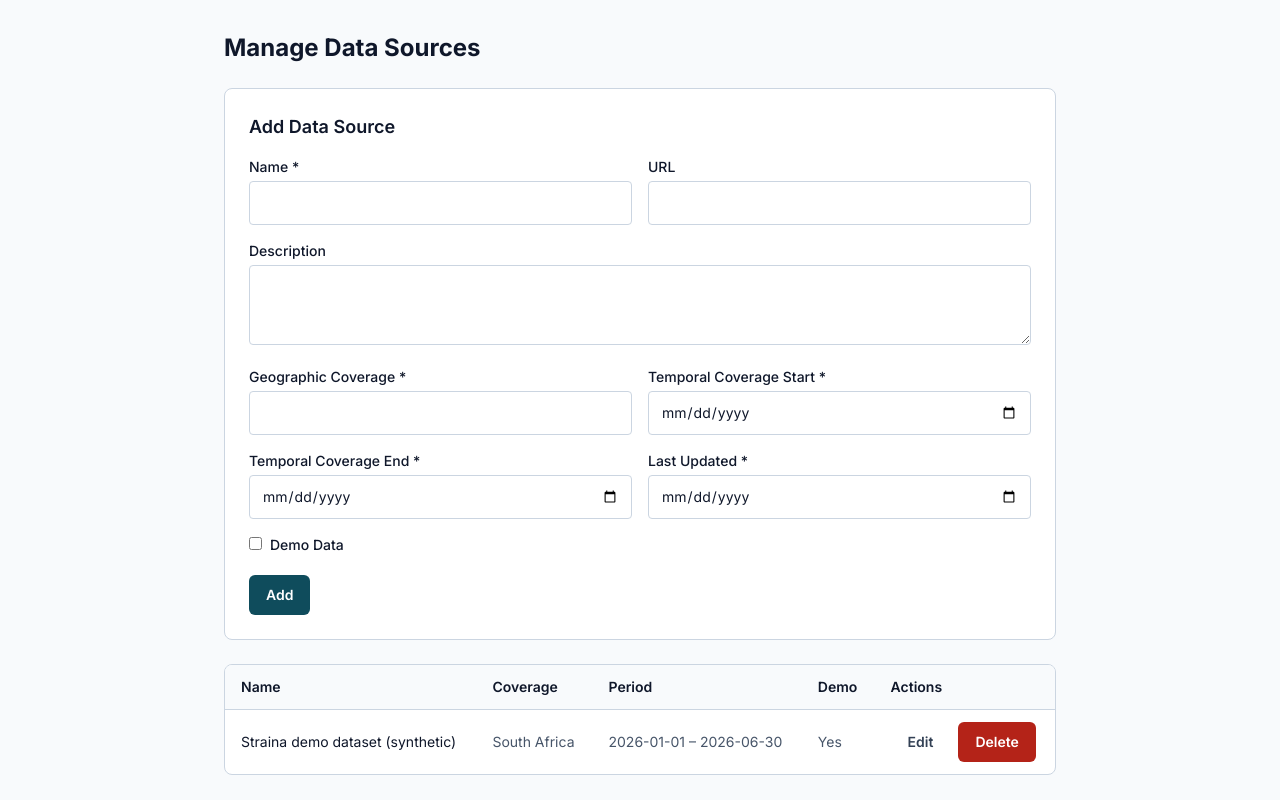
Test case: S9 Manage Data Sources (T-US12-1, T-US12-2, T-US12-3) › shows an error toast when the database rejects the insert (T-US12-3)
This screenshot has width=1280, height=800.
Check: the text "Straina demo dataset (synthetic)" is shown, box [225, 710, 476, 774]
Type "National surveillance" into the field below "Name *" at (440, 203), box [249, 181, 632, 225]
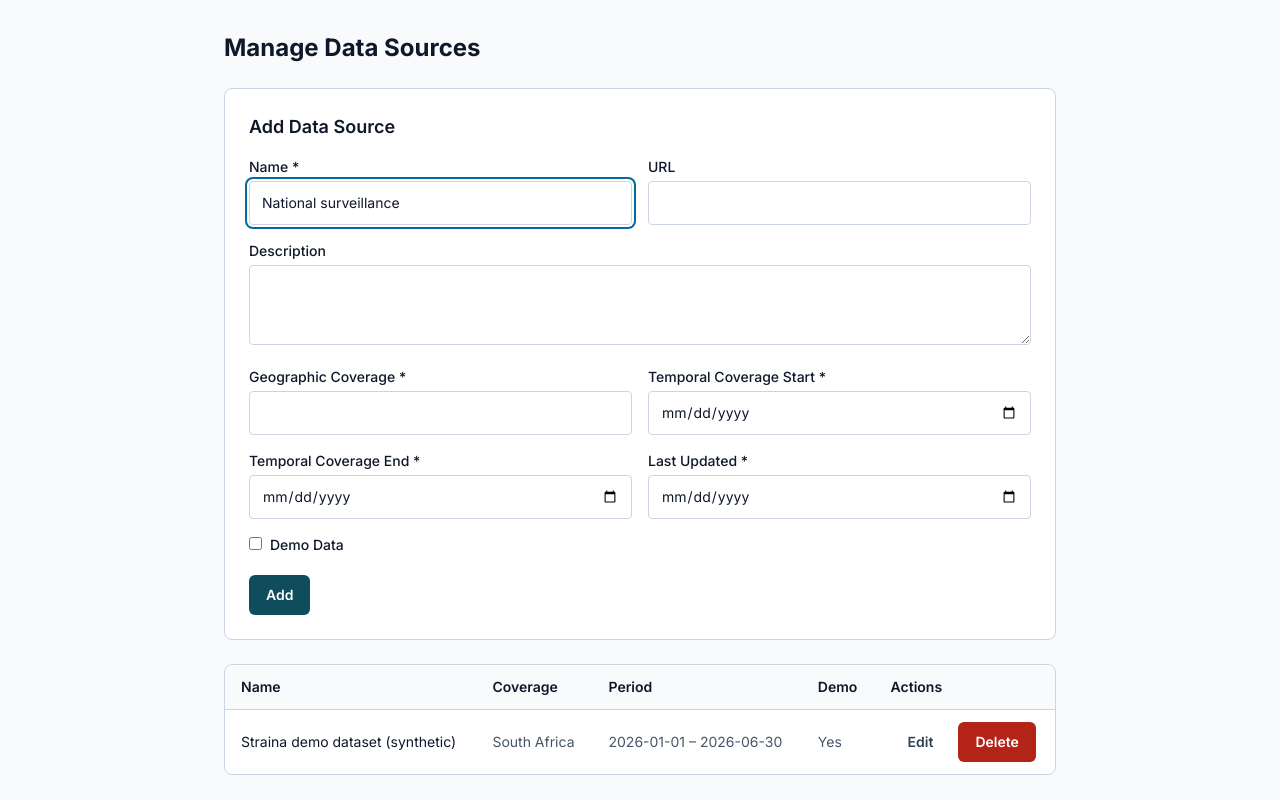
Type "South Africa" into the field below "Geographic Coverage *" at (440, 413), box [249, 391, 632, 435]
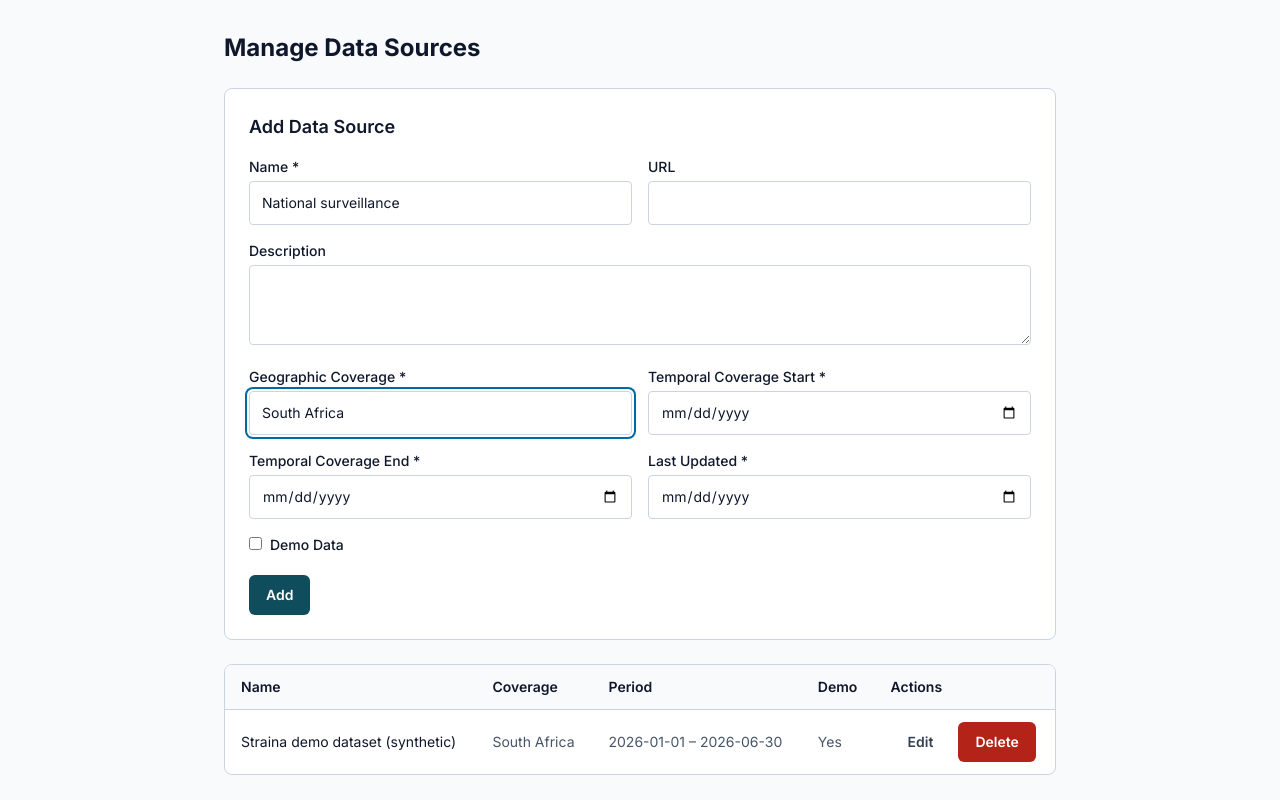
Type "2026-01-01" into the date field below "Temporal Coverage Start *" at (840, 413), box [648, 391, 1031, 435]
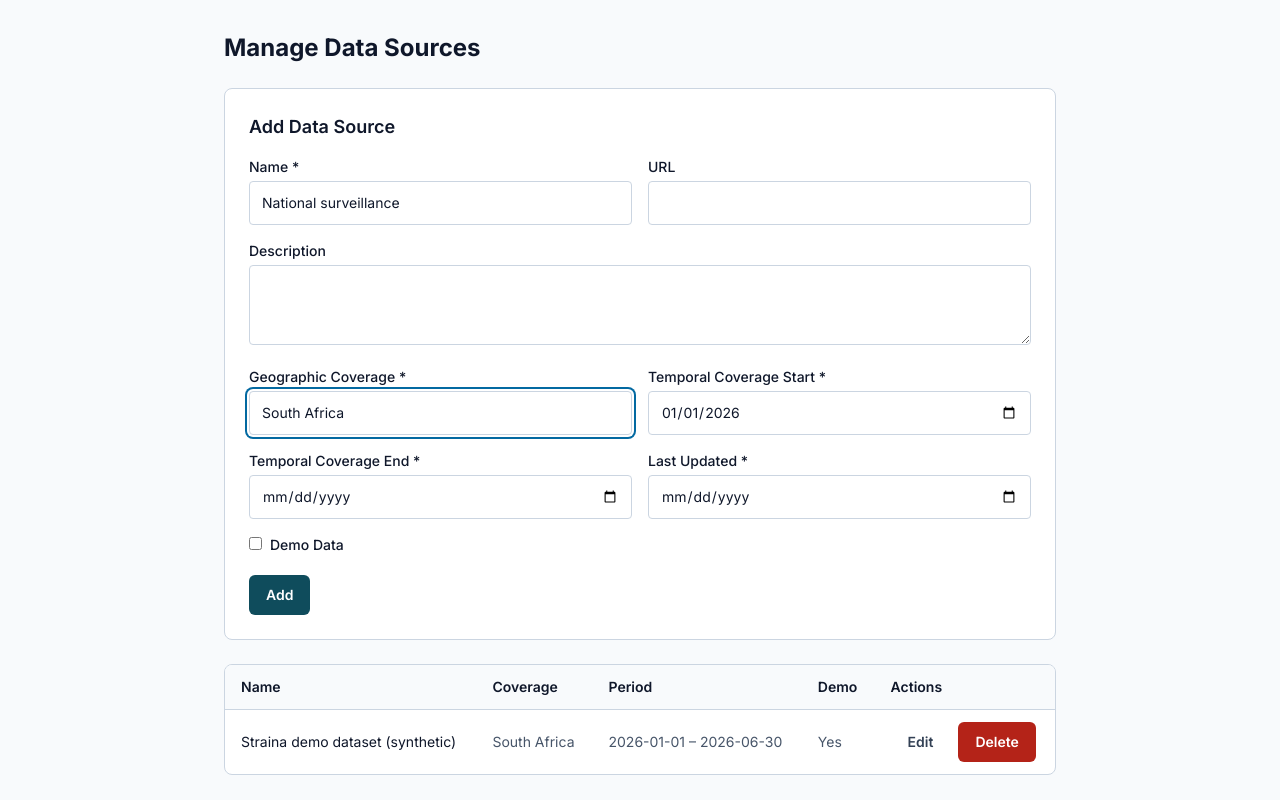
Type "2026-06-30" into the date field below "Temporal Coverage End *" at (440, 497), box [249, 475, 632, 519]
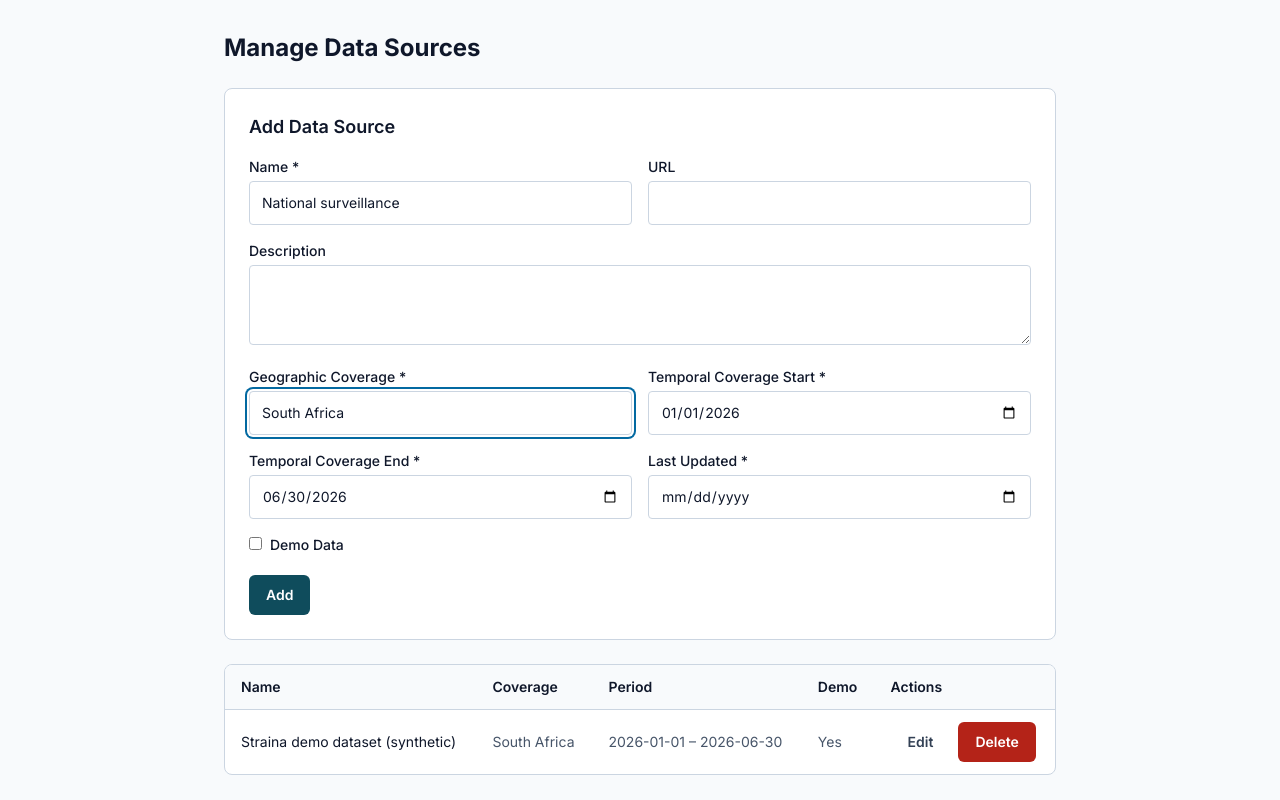
Type "2026-06-30" into the date field below "Last Updated *" at (840, 497), box [648, 475, 1031, 519]
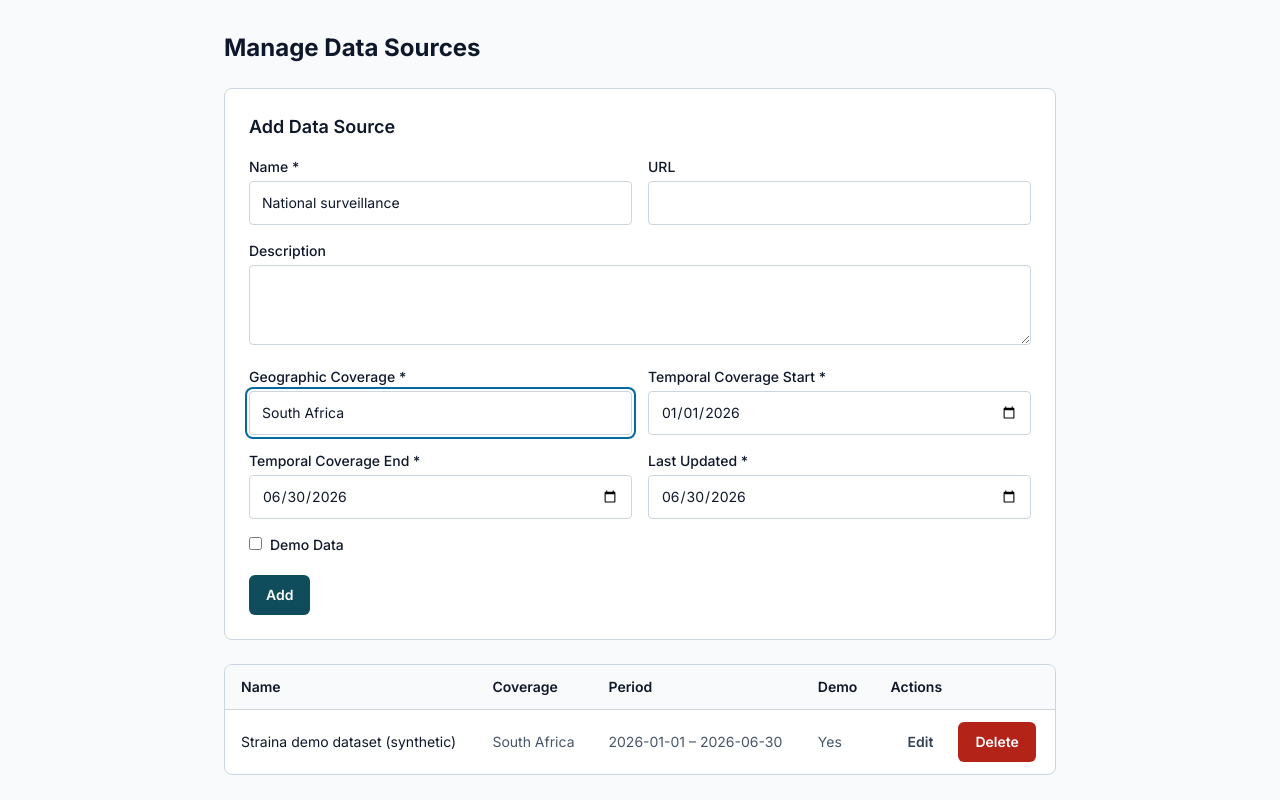
Click the button "Add" at (280, 595), box [249, 575, 310, 615]
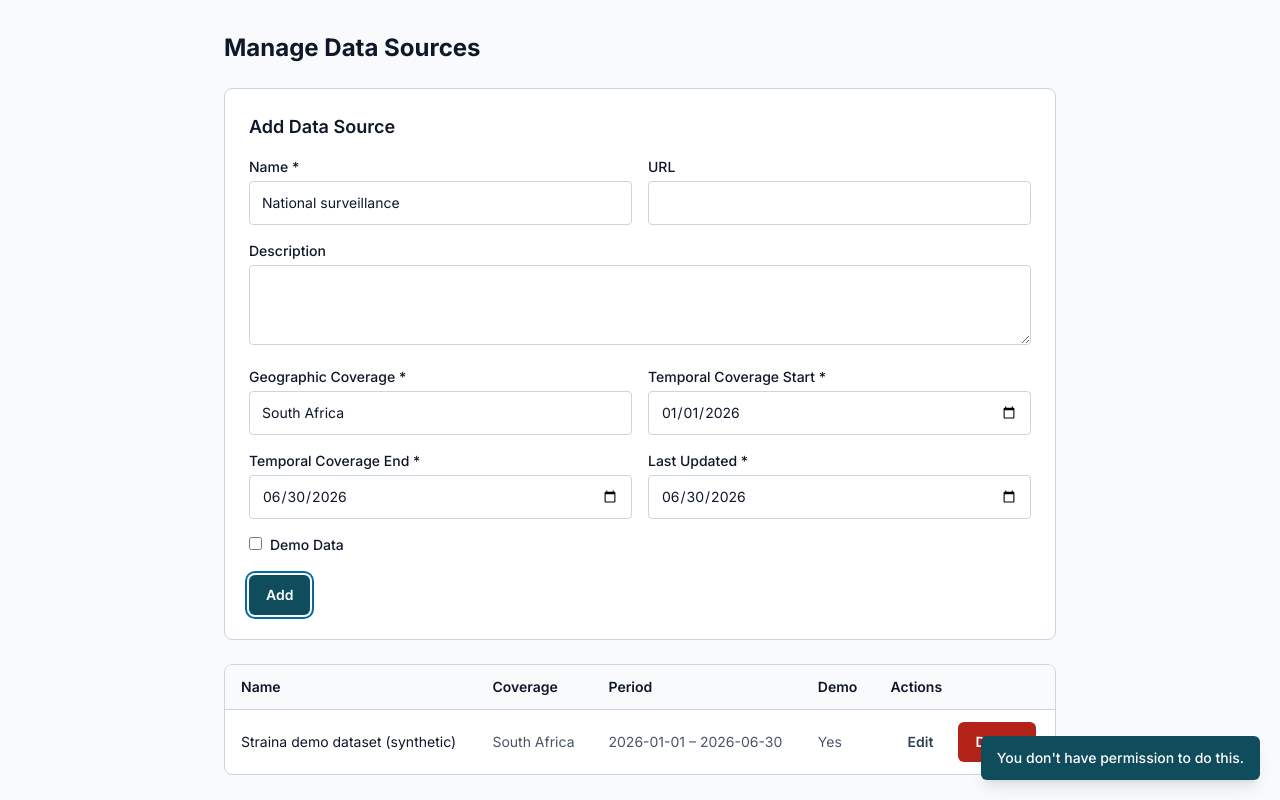
Check: the text "You don't have permission to do this." is shown, box [997, 748, 1244, 768]
